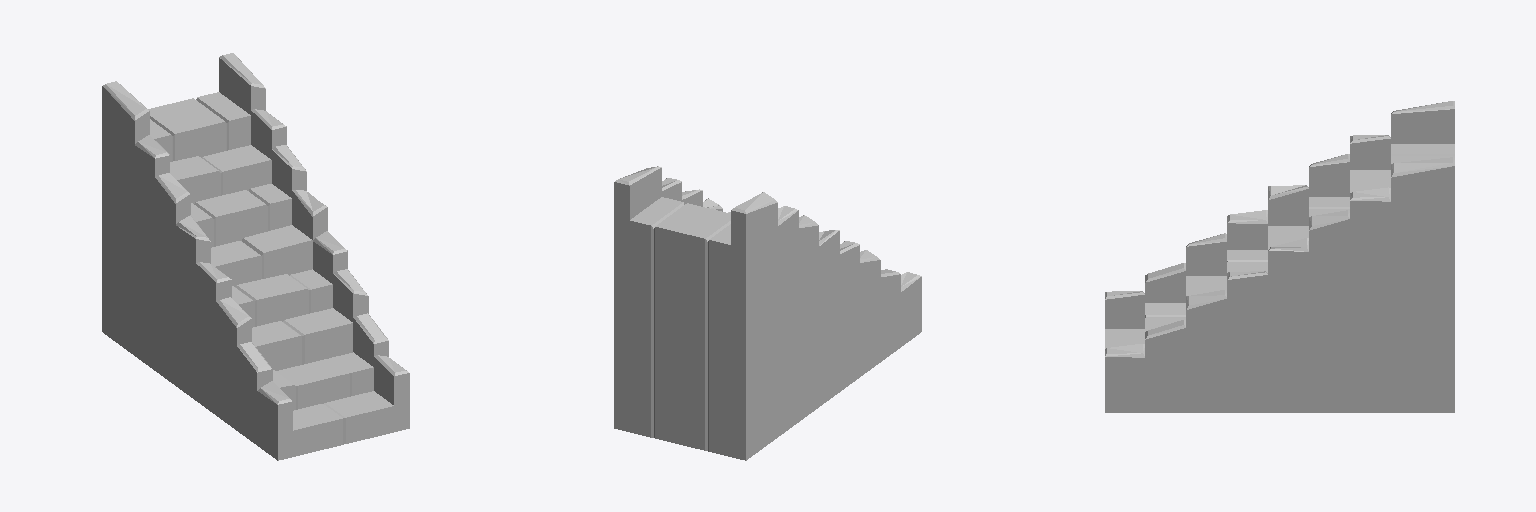
The model's file is stairs.obj.
The picture shows the model from 3 angles: view 1: azimuth 30°, elevation 25°; view 2: azimuth 150°, elevation 25°; view 3: azimuth 270°, elevation 25°; orthographic projection.
Parts seen in each view (by area): view 1: stairs_Cube.2815; view 2: stairs_Cube.2815; view 3: stairs_Cube.2815.
Boxes of the visible parts, x1,y1,x2,y2 form: stairs_Cube.2815: [102, 53, 409, 460]; stairs_Cube.2815: [614, 166, 921, 460]; stairs_Cube.2815: [1105, 101, 1454, 412].
Bounding box in the file's own units: 2.6 × 4.7 × 6.